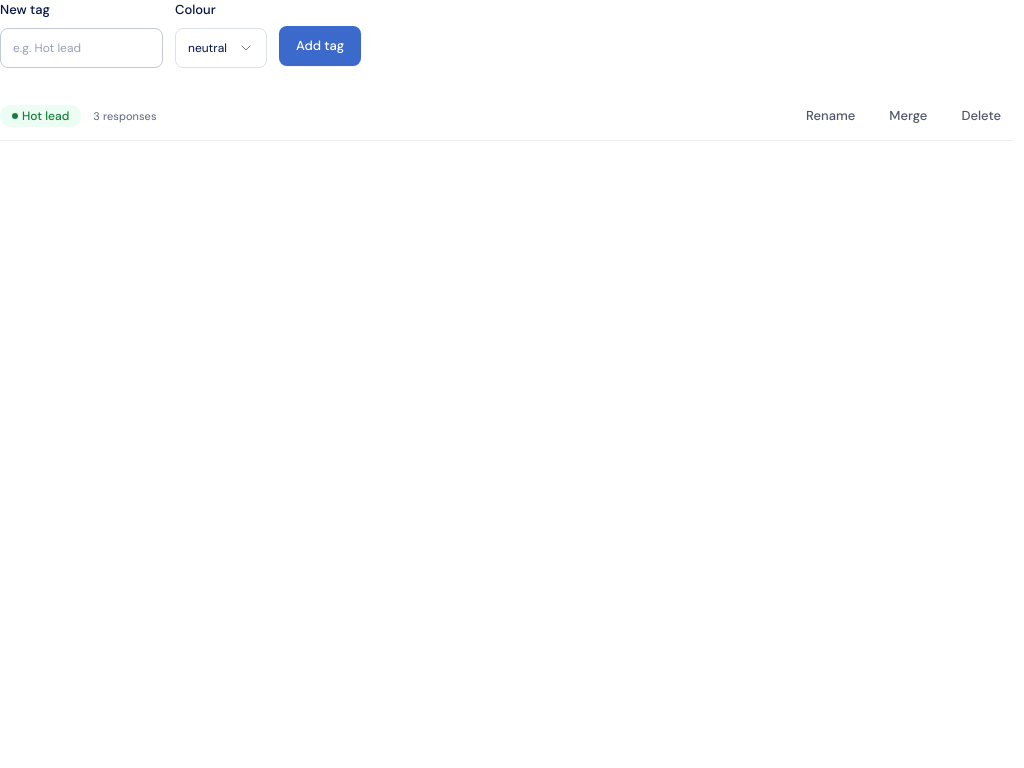
Test: TagManager › delete shows the usage count before confirming
Expected: the text "Hot lead" is shown, [0, 105, 81, 127]
Click the button "Delete" at x=981, y=116, box [948, 100, 1014, 132]
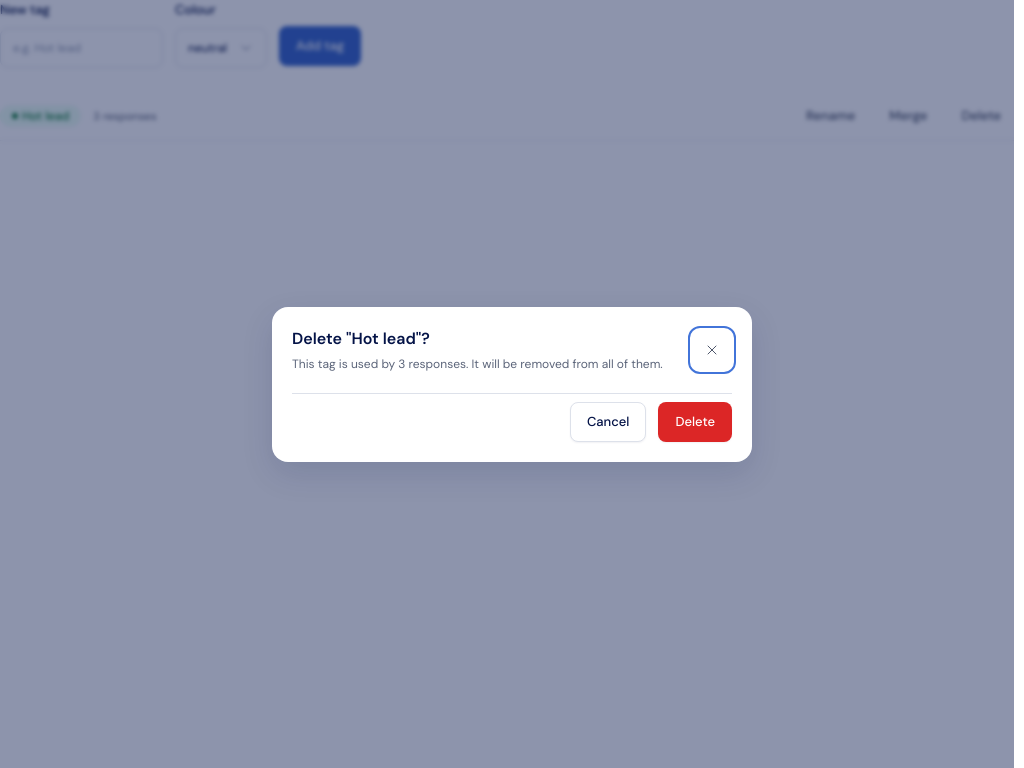
Result: the text "used by 3 responses" is shown at [292, 356, 663, 372]
